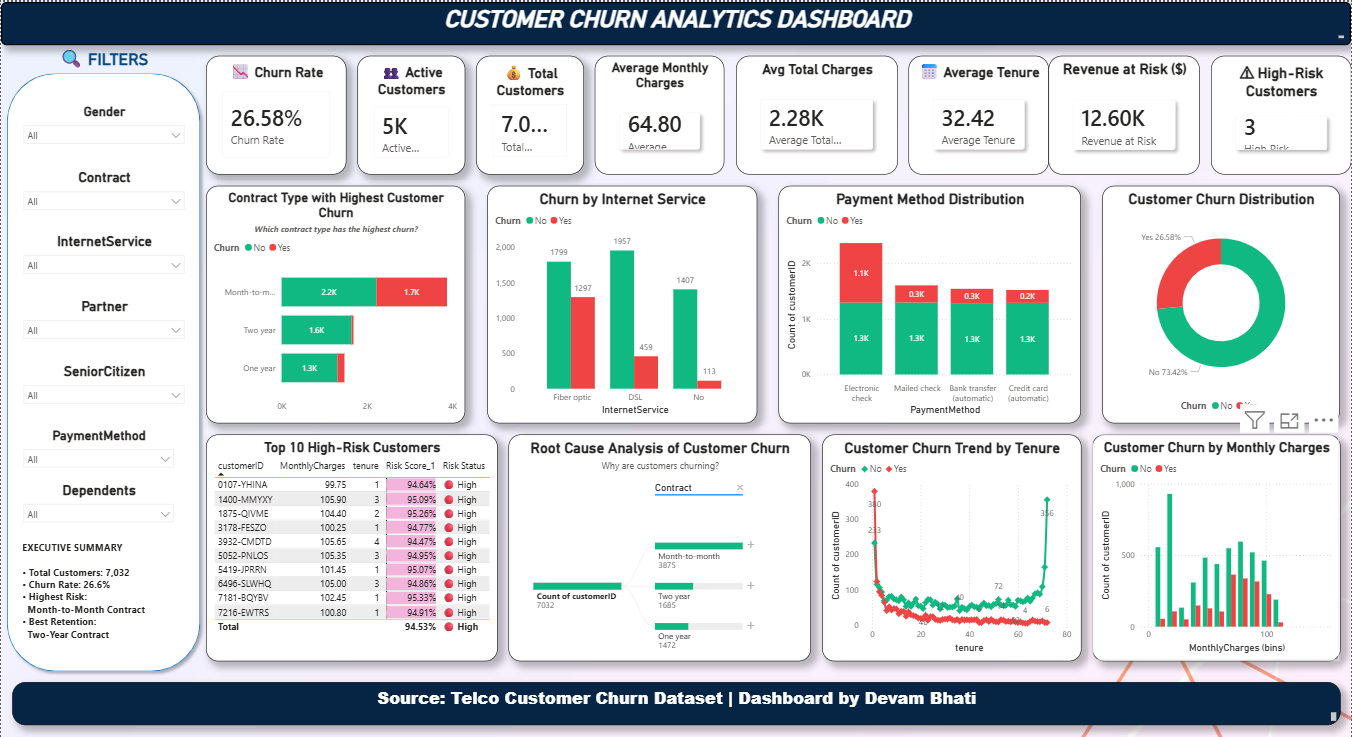

The page's visual inventory and layout, read from the dashboard file:
{"tool":"powerbi","page":{"name":"Executive Overview","canvas":[2000,1090],"ordinal":0},"visuals":[{"type":"cardVisual","title":"💰 Total Customers","fields":{"Data":["CustomerChurn.Total Customers"]},"box":[704,80,160,176],"z":0},{"type":"textbox","title":"CUSTOMER CHURN ANALYTICS DASHBOARD","box":[0,0,2000,64],"z":1000},{"type":"cardVisual","title":"👥 Active Customers","fields":{"Data":["CustomerChurn.Active Customers"]},"box":[528,80,160,176],"z":2000},{"type":"cardVisual","title":"📉 Churn Rate","fields":{"Data":["CustomerChurn.Churn Rate"]},"box":[304,80,208,176],"z":3000},{"type":"cardVisual","title":"Average Monthly Charges","fields":{"Data":["CustomerChurn.Average Monthly Charges"]},"box":[880,80,192,176],"z":4000},{"type":"cardVisual","title":"Avg Total Charges","fields":{"Data":["CustomerChurn.Average Total Charges"]},"box":[1088,80,240,176],"z":5000},{"type":"cardVisual","title":"📅 Average Tenure","fields":{"Data":["CustomerChurn.Average Tenure"]},"box":[1344,80,208,176],"z":6000},{"type":"cardVisual","title":"⚠ High-Risk Customers","fields":{"Data":["CustomerChurn.High Risk Customers"]},"box":[1792,80,208,176],"z":7000},{"type":"cardVisual","title":"Revenue at Risk ($)","fields":{"Data":["CustomerChurn.Revenue at Risk"]},"box":[1552,80,224,176],"z":8000},{"type":"donutChart","title":"Customer Churn Distribution","fields":{"Category":["CustomerChurn.Churn"],"Y":["CountNonNull(CustomerChurn.customerID)"]},"box":[1632,272,352,352],"z":9000},{"type":"barChart","title":"Contract Type with Highest Customer Churn","fields":{"Category":["CustomerChurn.Contract"],"Y":["CountNonNull(CustomerChurn.customerID)"],"Series":["CustomerChurn.Churn"]},"box":[304,272,384,352],"z":10000},{"type":"clusteredColumnChart","title":"Churn by Internet Service","fields":{"Category":["CustomerChurn.InternetService"],"Y":["CountNonNull(CustomerChurn.customerID)"],"Series":["CustomerChurn.Churn"]},"box":[720,272,400,352],"z":11000},{"type":"columnChart","title":"Payment Method Distribution","fields":{"Category":["CustomerChurn.PaymentMethod"],"Y":["CountNonNull(CustomerChurn.customerID)"],"Series":["CustomerChurn.Churn"]},"box":[1152,272,448,352],"z":12000},{"type":"lineChart","title":"Customer Churn Trend by Tenure","fields":{"Y":["CountNonNull(CustomerChurn.customerID)"],"Series":["CustomerChurn.Churn"],"Category":["CustomerChurn.tenure"]},"box":[1216,640,384,336],"z":13000},{"type":"clusteredColumnChart","title":"Customer Churn by Monthly Charges","fields":{"Series":["CustomerChurn.Churn"],"Y":["CountNonNull(CustomerChurn.customerID)"],"Category":["CustomerChurn.MonthlyCharges (bins)"]},"box":[1616,640,368,336],"z":14000},{"type":"shape","title":"🔍 FILTERS","box":[0,64,304,936],"z":15000},{"type":"slicer","title":"Gender","fields":{"Values":["CustomerChurn.gender"]},"box":[16,144,272,80],"z":16000},{"type":"slicer","title":"SeniorCitizen","fields":{"Values":["CustomerChurn.SeniorCitizen"]},"box":[16,528,272,80],"z":17000},{"type":"slicer","title":"Partner","fields":{"Values":["CustomerChurn.Partner"]},"box":[16,432,272,80],"z":18000},{"type":"slicer","title":"Dependents","fields":{"Values":["CustomerChurn.Dependents"]},"box":[16,704,256,80],"z":19000},{"type":"slicer","title":"Contract","fields":{"Values":["CustomerChurn.Contract"]},"box":[16,240,272,80],"z":20000},{"type":"slicer","title":"InternetService","fields":{"Values":["CustomerChurn.InternetService"]},"box":[16,336,272,80],"z":21000},{"type":"slicer","title":"PaymentMethod","fields":{"Values":["CustomerChurn.PaymentMethod"]},"box":[16,624,256,80],"z":22000},{"type":"textbox","box":[16,784,256,176],"z":23000},{"type":"tableEx","title":"Top 10 High-Risk Customers","fields":{"Values":["CustomerChurn.customerID","CustomerChurn.MonthlyCharges","CustomerChurn.tenure","CustomerChurn.Risk Score_1","CustomerChurn.Risk Status"]},"box":[304,640,432,336],"z":24000},{"type":"decompositionTreeVisual","title":"Root Cause Analysis of Customer Churn","fields":{"Analyze":["CountNonNull(CustomerChurn.customerID)"],"ExplainBy":["CustomerChurn.Contract","CustomerChurn.InternetService","CustomerChurn.PaymentMethod","CustomerChurn.Partner","CustomerChurn.Dependents","CustomerChurn.SeniorCitizen"]},"box":[752,640,448,336],"z":25000},{"type":"textbox","title":"Source: Telco Customer Churn Dataset | Dashboard by Devam Bhati","box":[16,1008,1968,64],"z":25002}]}

Visuals, with their boxes in screenshot pixels (x1, y1, x2, y2), scaled from the page's 2000x1090 canvas onto the 1352x737 screenshot:
"💰 Total Customers" cardVisual: (left=476, top=54, right=584, bottom=173)
"CUSTOMER CHURN ANALYTICS DASHBOARD" textbox: (left=0, top=0, right=1351, bottom=43)
"👥 Active Customers" cardVisual: (left=357, top=54, right=465, bottom=173)
"📉 Churn Rate" cardVisual: (left=206, top=54, right=346, bottom=173)
"Average Monthly Charges" cardVisual: (left=595, top=54, right=725, bottom=173)
"Avg Total Charges" cardVisual: (left=735, top=54, right=898, bottom=173)
"📅 Average Tenure" cardVisual: (left=909, top=54, right=1049, bottom=173)
"⚠ High-Risk Customers" cardVisual: (left=1211, top=54, right=1351, bottom=173)
"Revenue at Risk ($)" cardVisual: (left=1049, top=54, right=1201, bottom=173)
"Customer Churn Distribution" donutChart: (left=1103, top=184, right=1341, bottom=422)
"Contract Type with Highest Customer Churn" barChart: (left=206, top=184, right=465, bottom=422)
"Churn by Internet Service" clusteredColumnChart: (left=487, top=184, right=757, bottom=422)
"Payment Method Distribution" columnChart: (left=779, top=184, right=1082, bottom=422)
"Customer Churn Trend by Tenure" lineChart: (left=822, top=433, right=1082, bottom=660)
"Customer Churn by Monthly Charges" clusteredColumnChart: (left=1092, top=433, right=1341, bottom=660)
"🔍 FILTERS" shape: (left=0, top=43, right=206, bottom=676)
"Gender" slicer: (left=11, top=97, right=195, bottom=151)
"SeniorCitizen" slicer: (left=11, top=357, right=195, bottom=411)
"Partner" slicer: (left=11, top=292, right=195, bottom=346)
"Dependents" slicer: (left=11, top=476, right=184, bottom=530)
"Contract" slicer: (left=11, top=162, right=195, bottom=216)
"InternetService" slicer: (left=11, top=227, right=195, bottom=281)
"PaymentMethod" slicer: (left=11, top=422, right=184, bottom=476)
textbox: (left=11, top=530, right=184, bottom=649)
"Top 10 High-Risk Customers" tableEx: (left=206, top=433, right=498, bottom=660)
"Root Cause Analysis of Customer Churn" decompositionTreeVisual: (left=508, top=433, right=811, bottom=660)
"Source: Telco Customer Churn Dataset | Dashboard by Devam Bhati" textbox: (left=11, top=682, right=1341, bottom=725)
